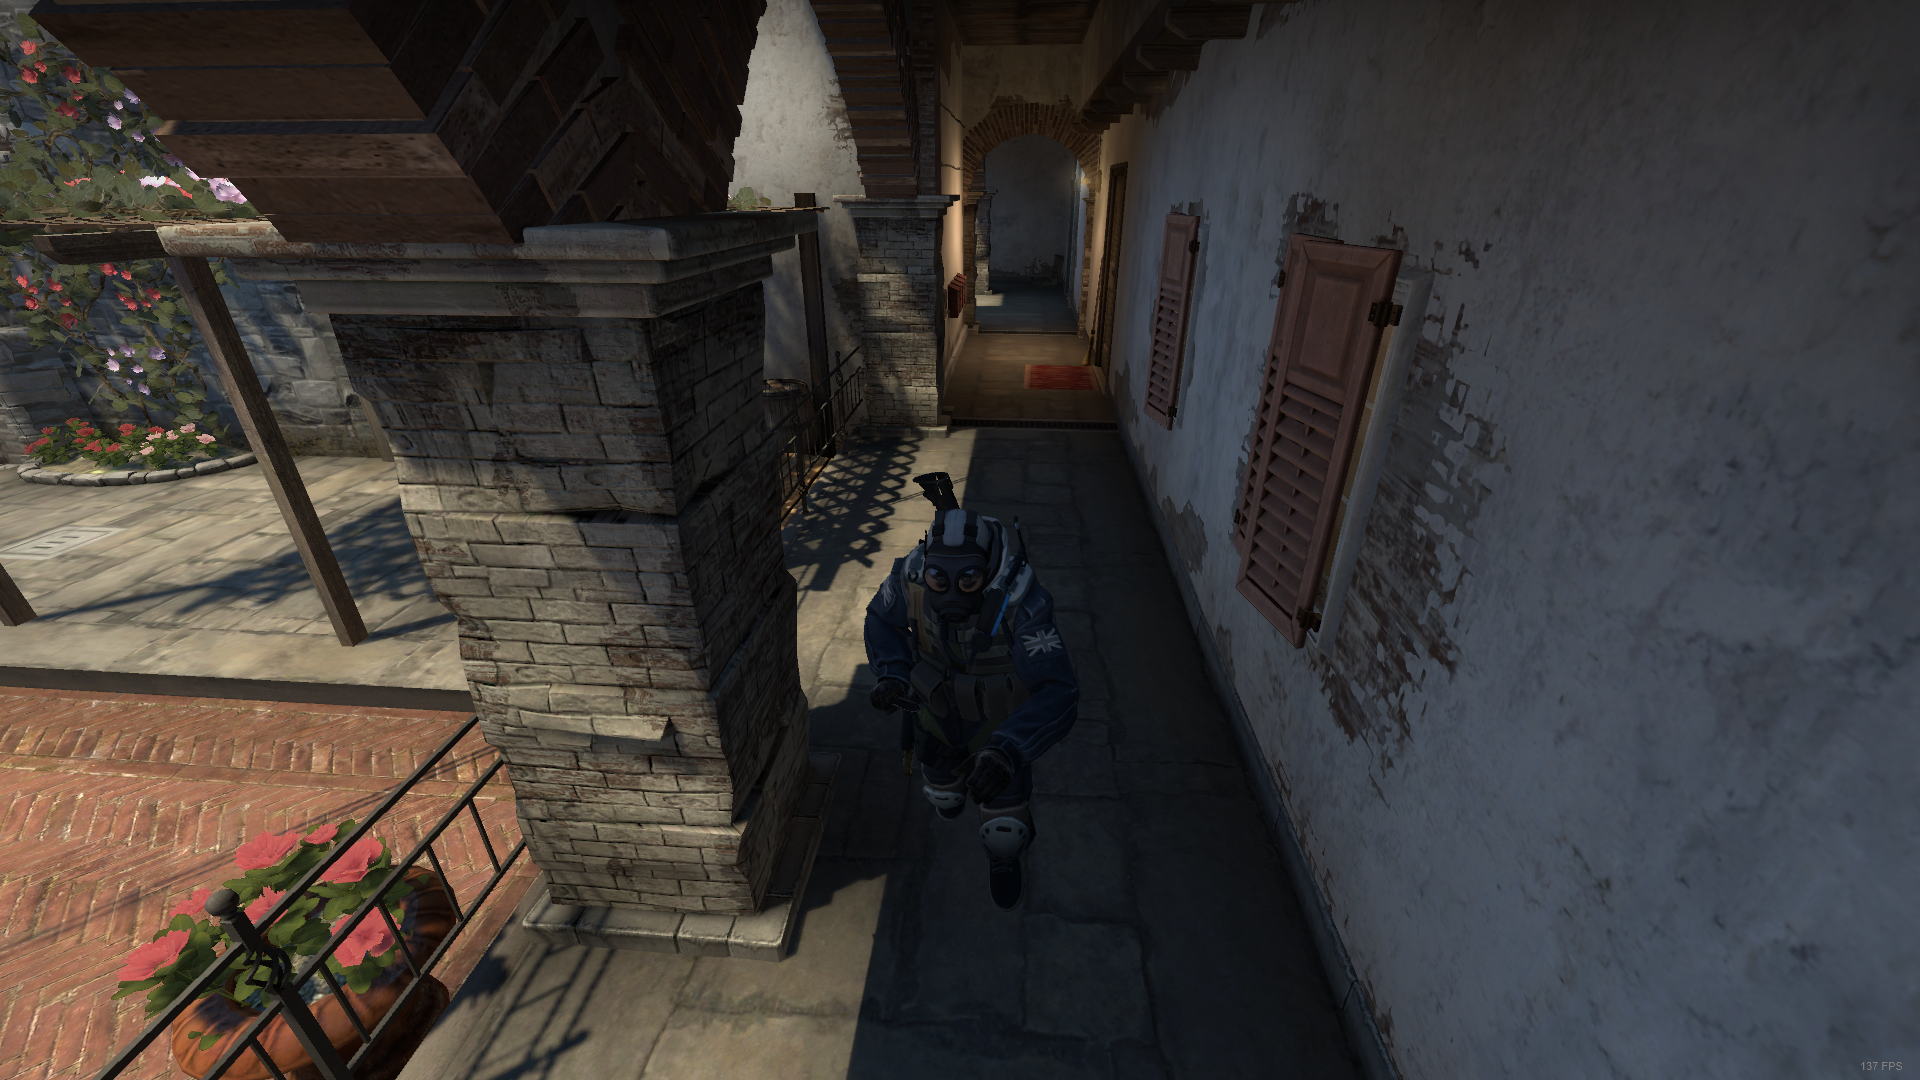ct: (865, 509, 1080, 918)
